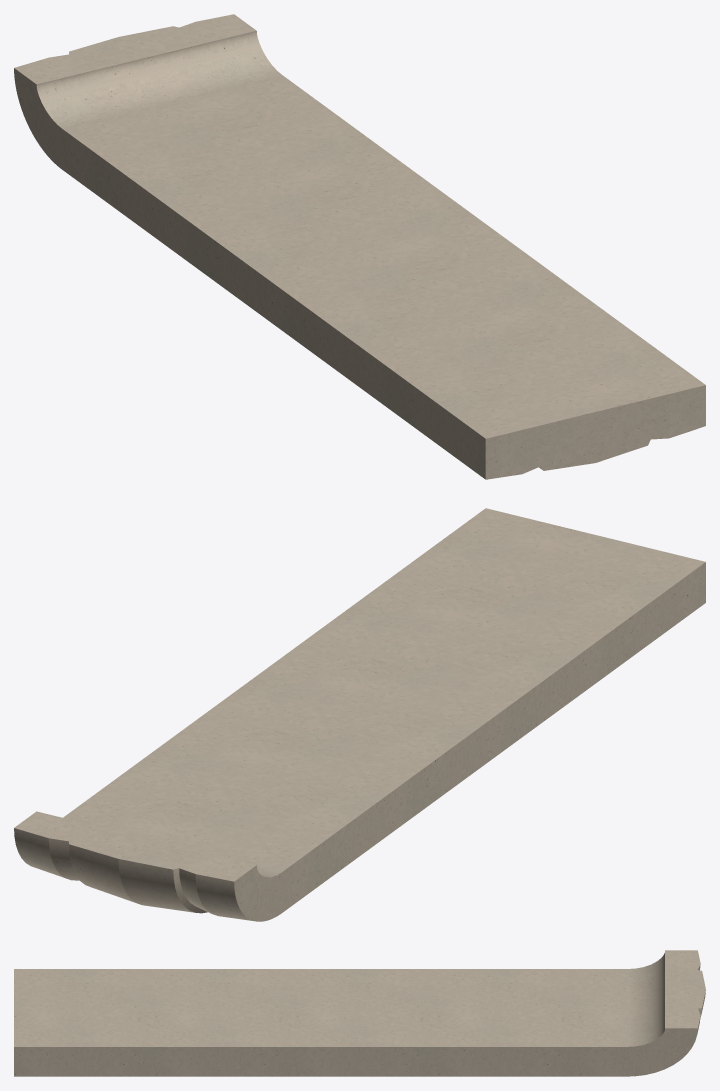
3 renders of one model, top to bottom at view 1: azimuth 30°, elevation 25°; view 2: azimuth 150°, elevation 25°; view 3: azimuth 270°, elevation 25°, orthographic. The views are drawn at different scales.
Parts seen in each view (by area): view 1: B4.SLDPRT; view 2: B4.SLDPRT; view 3: B4.SLDPRT.
Boxes of the visible parts, bbox=[...] form: B4.SLDPRT: bbox=[14, 14, 705, 479]; B4.SLDPRT: bbox=[14, 508, 705, 921]; B4.SLDPRT: bbox=[14, 950, 705, 1076].
Size of the model in its own units: 0.225 by 0.0748 by 0.8448.
1 material, 1 textured.
